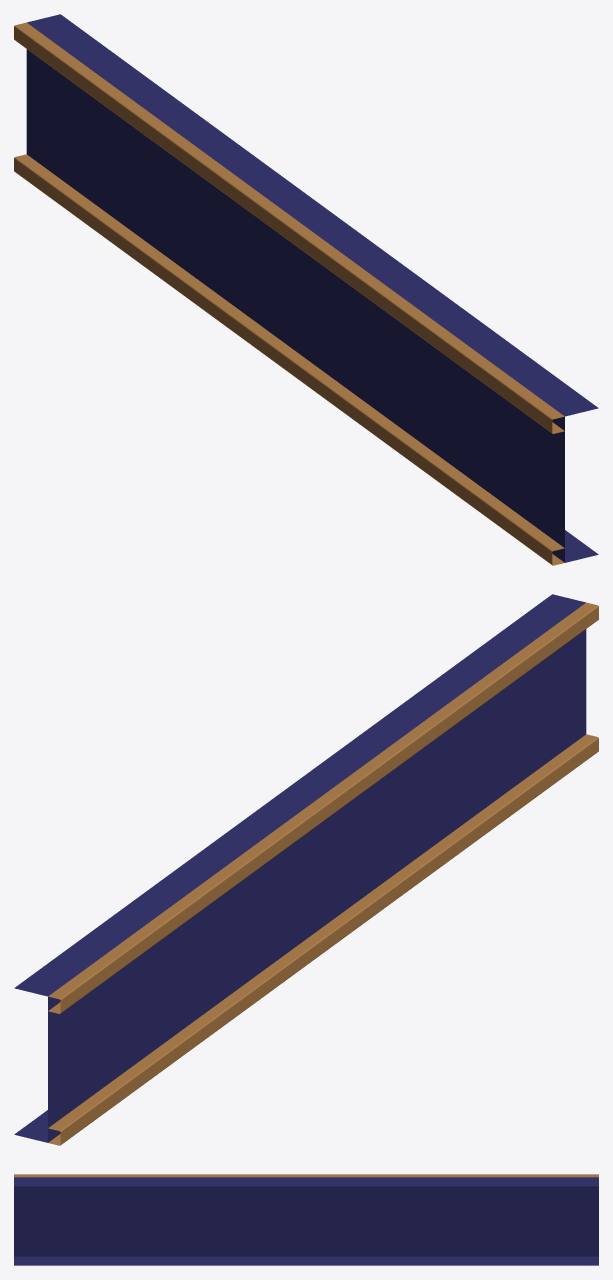
File: Hookable_Surface_long.fbx
The picture shows the model from 3 angles, top to bottom: view 1: azimuth 30°, elevation 25°; view 2: azimuth 150°, elevation 25°; view 3: azimuth 270°, elevation 25°; orthographic projection. The views are drawn at different scales.
Visible parts, largest first — view 1: Hookable_Surface_long; view 2: Hookable_Surface_long; view 3: Hookable_Surface_long.
Part boxes in pixels (x1=…): Hookable_Surface_long: x1=14, y1=14, x2=598, y2=565; Hookable_Surface_long: x1=14, y1=594, x2=598, y2=1145; Hookable_Surface_long: x1=14, y1=1174, x2=598, y2=1265.
Size of the model in its own units: 10 by 30 by 200.
